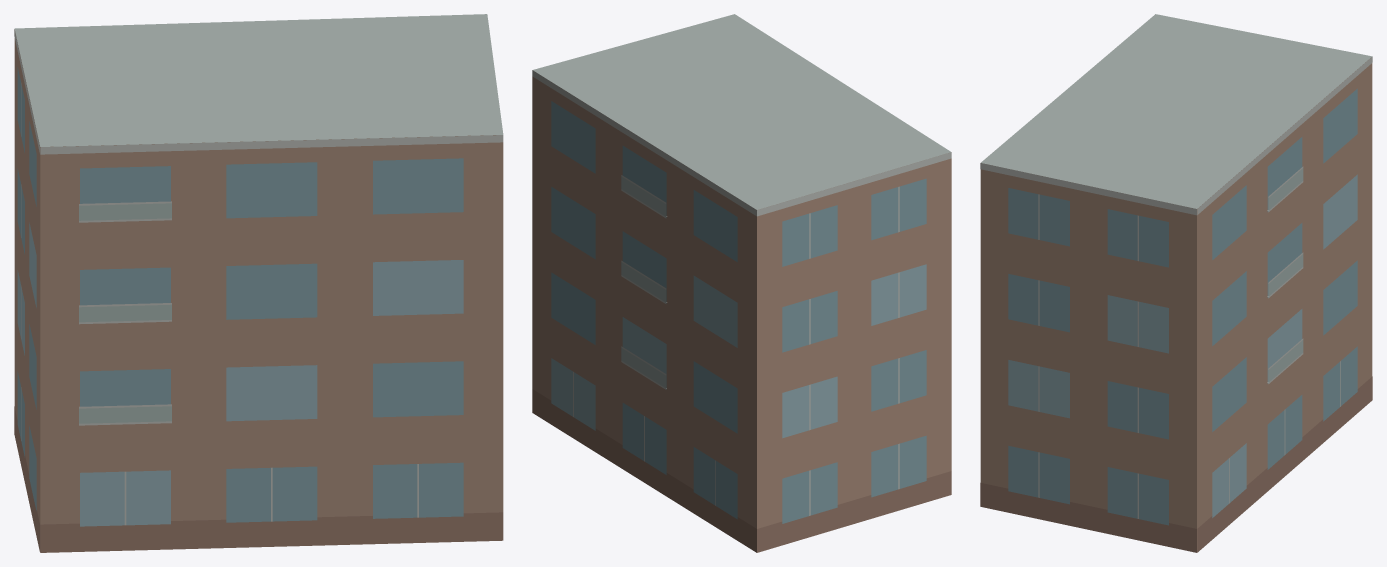
The model's file is survey-upis-32842163.glb.
3 views of the same model, side by side, from view 1: azimuth 30°, elevation 25°; view 2: azimuth 150°, elevation 25°; view 3: azimuth 270°, elevation 25° (orthographic). The views are drawn at different scales.
Parts seen in each view (by area): view 1: survey-upis-32842163.tmp; view 2: survey-upis-32842163.tmp; view 3: survey-upis-32842163.tmp.
Part boxes in pixels (box(x1,y1,x2,y2)): survey-upis-32842163.tmp: box(14, 14, 503, 552); survey-upis-32842163.tmp: box(532, 14, 951, 552); survey-upis-32842163.tmp: box(980, 14, 1372, 552).
Size of the model in its own units: 15.94 by 13.1 by 13.54.
